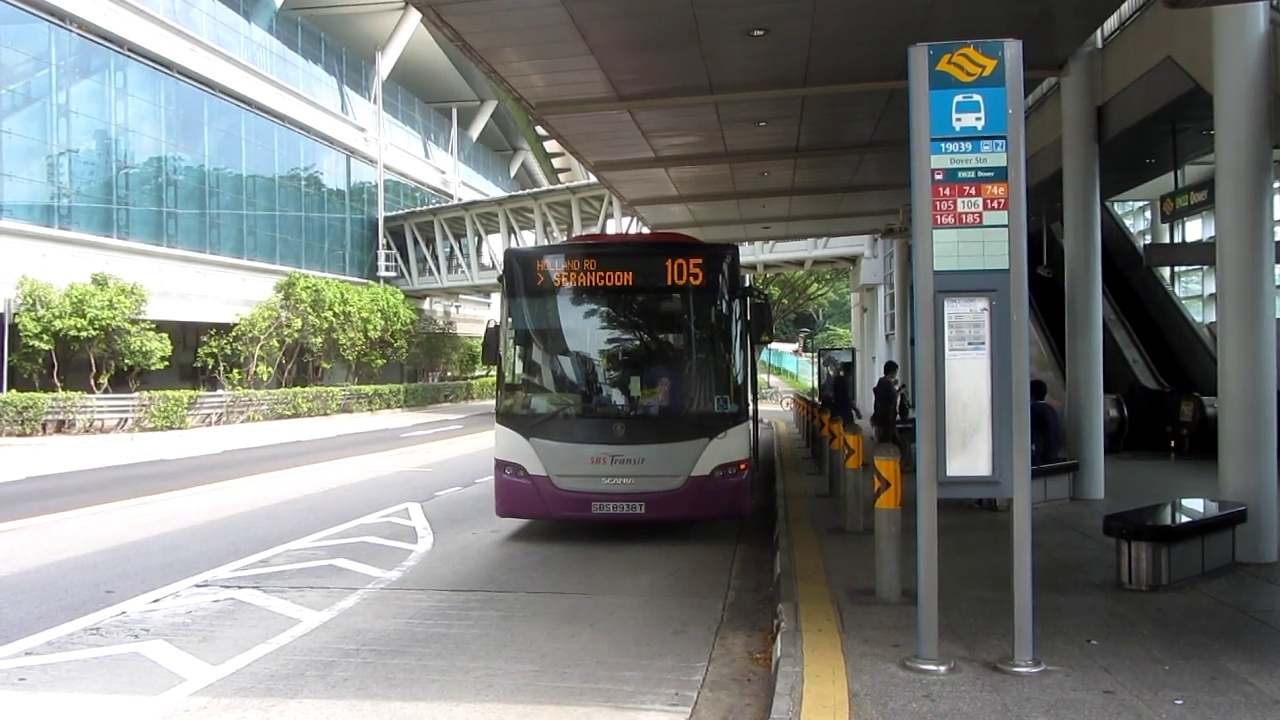bus panel: (526, 252, 711, 290)
